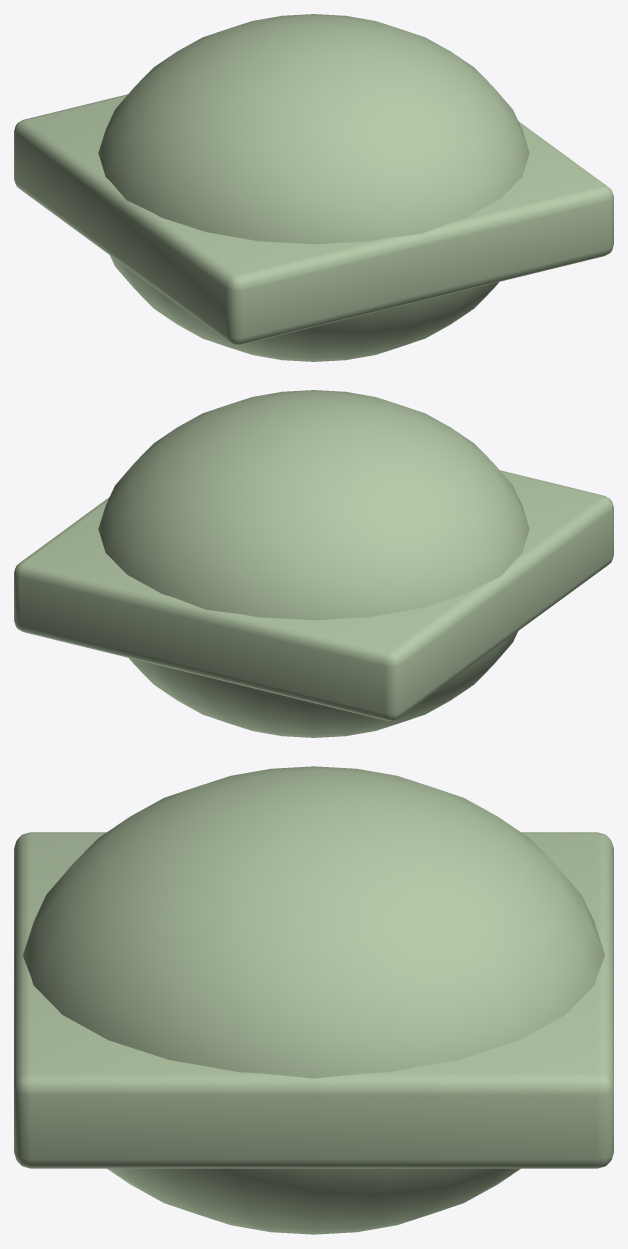
File: pouf.glb
The picture shows the model from 3 angles, top to bottom: view 1: azimuth 30°, elevation 25°; view 2: azimuth 150°, elevation 25°; view 3: azimuth 270°, elevation 25°; orthographic projection. The views are drawn at different scales.
Visible parts, largest first — view 1: cushion.002, seat.008; view 2: cushion.002, seat.008; view 3: cushion.002, seat.008.
Boxes of the visible parts, bbox=[...] form: cushion.002: bbox=[98, 14, 529, 361]; seat.008: bbox=[14, 94, 613, 344]; cushion.002: bbox=[98, 390, 529, 737]; seat.008: bbox=[14, 470, 613, 720]; cushion.002: bbox=[23, 766, 604, 1234]; seat.008: bbox=[14, 832, 613, 1168].
Bounding box in the file's own units: 0.58 × 0.42 × 0.58.
